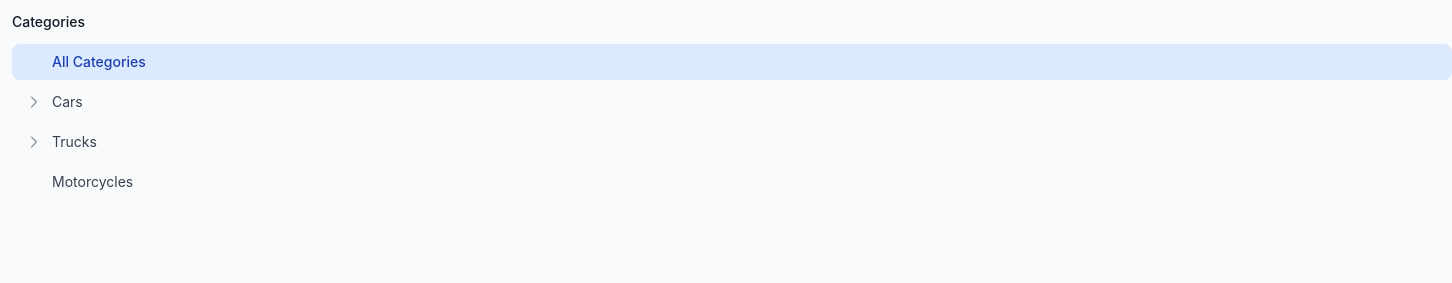
Scenario: CategoryBrowser › expands category when expand button is clicked
Click the button without text next to "Cars".
click(34, 102)  # box x1=24 y1=92 x2=44 y2=112
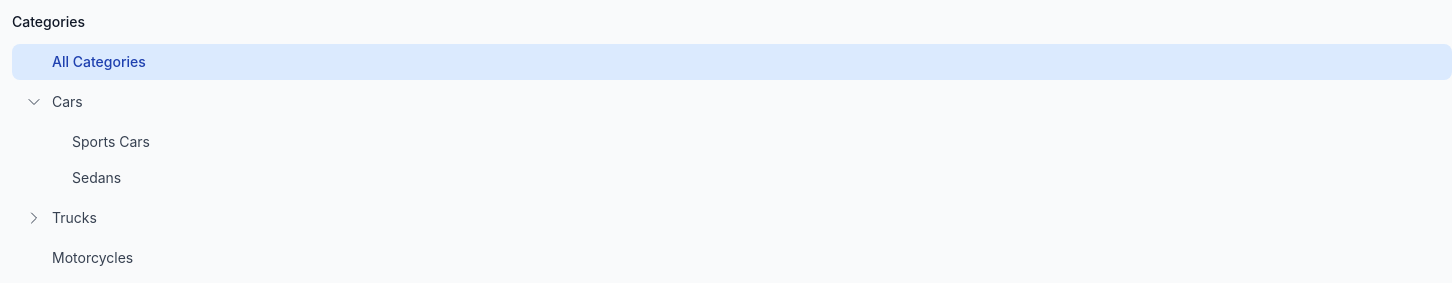
expect the text "Sports Cars" is shown: met, box x1=72 y1=133 x2=150 y2=150
expect the text "Sedans" is shown: met, box x1=72 y1=169 x2=121 y2=186
